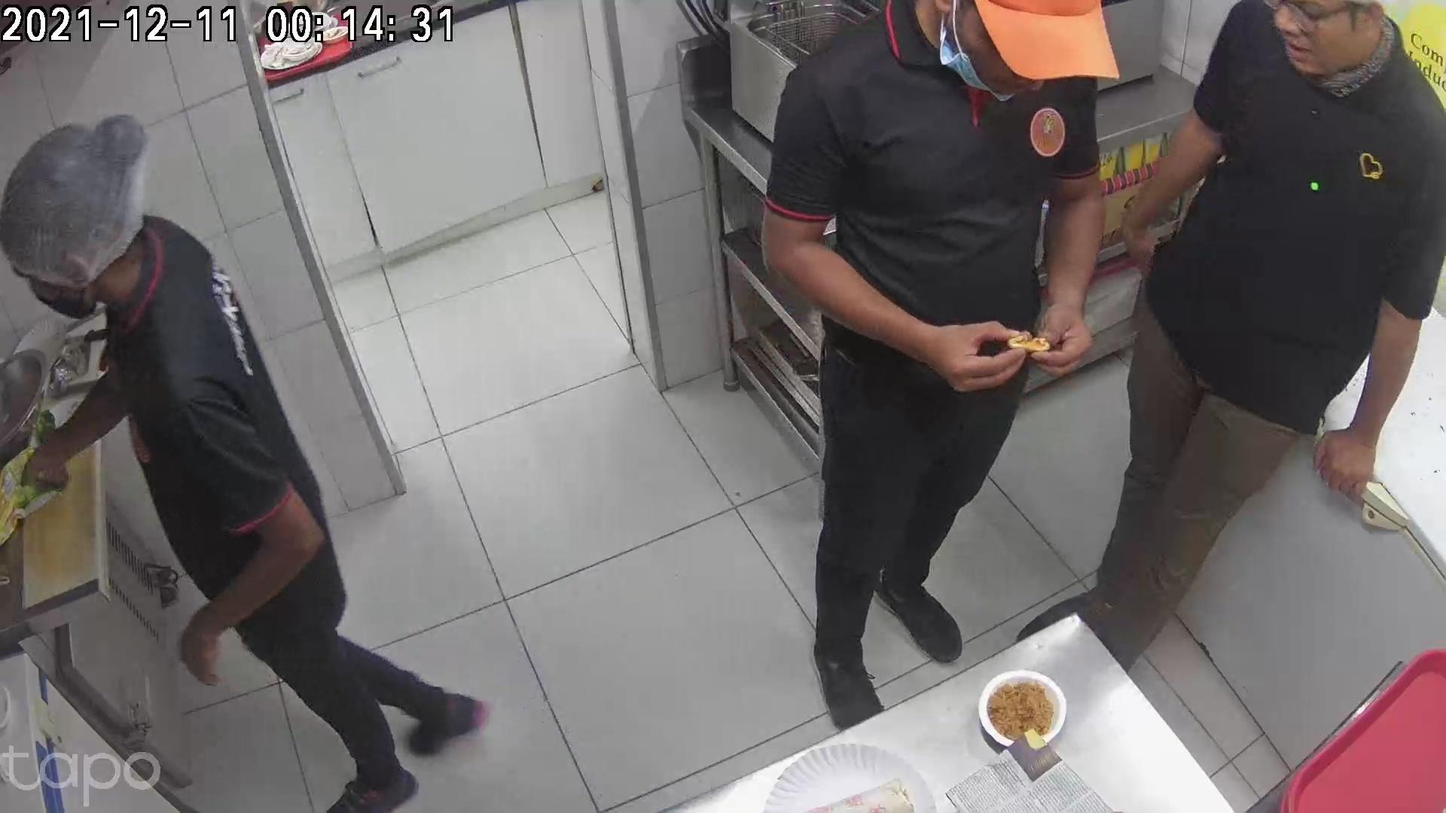gloves: (871, 621, 997, 745)
no_gloves: (1033, 597, 1113, 715)
